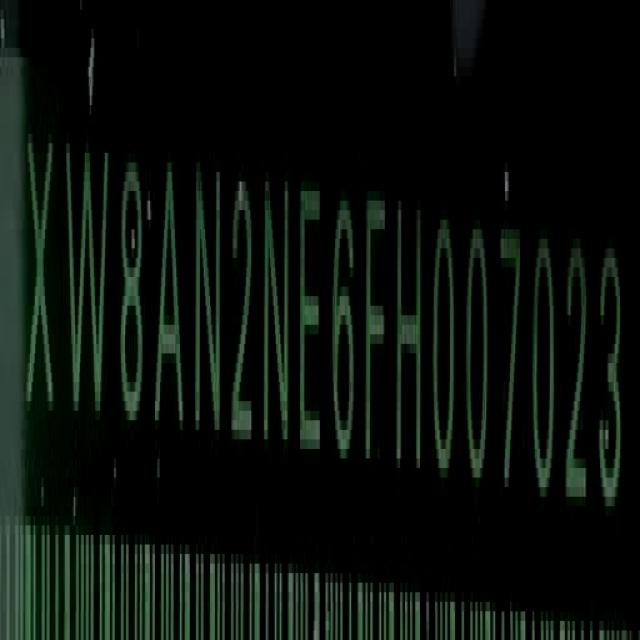0: (430, 206, 459, 487), (465, 216, 491, 494), (531, 226, 556, 504)
2: (230, 163, 254, 453), (565, 239, 590, 514)
3: (600, 242, 626, 520)
6: (330, 186, 355, 468)
7: (499, 219, 524, 499)
8: (120, 146, 145, 434)
A: (152, 149, 184, 446)
E: (298, 172, 322, 455)
F: (364, 191, 386, 474)
H: (395, 202, 424, 488)
N: (194, 148, 222, 452), (262, 173, 290, 446)
W: (64, 126, 109, 432)
X: (27, 120, 55, 430)
